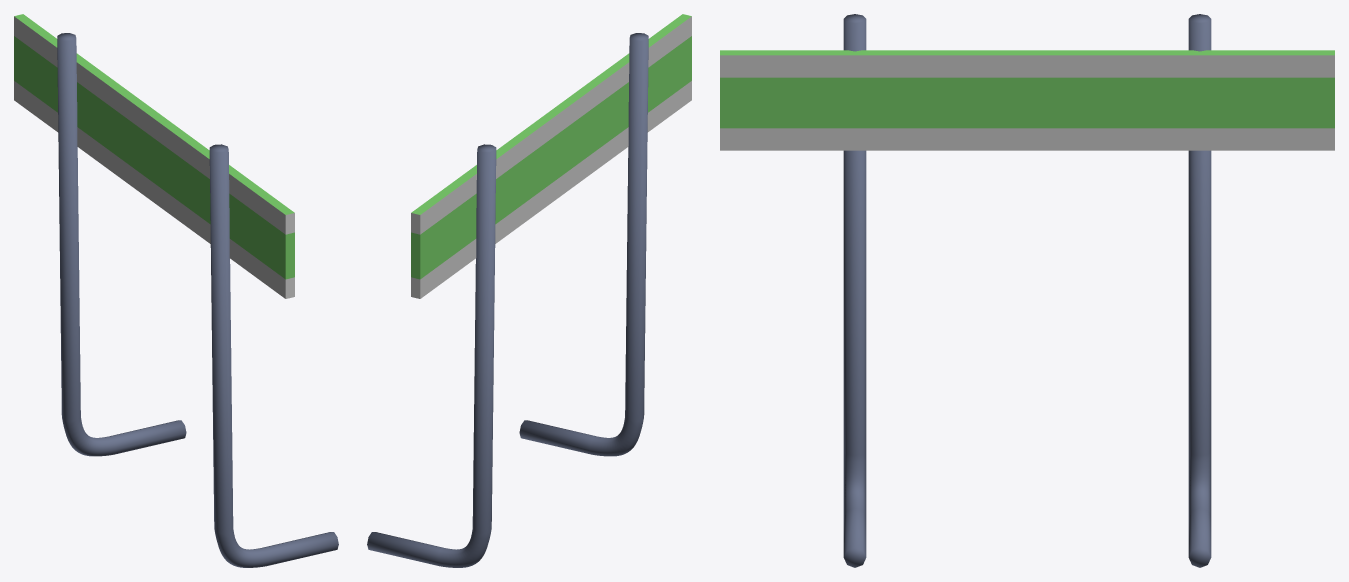
The model's file is Hurdles.fbx.
3 views of the same model, side by side, from view 1: azimuth 30°, elevation 25°; view 2: azimuth 150°, elevation 25°; view 3: azimuth 270°, elevation 25° (orthographic). The views are drawn at different scales.
Parts seen in each view (by area): view 1: NurbsPath; view 2: NurbsPath; view 3: NurbsPath.
Part boxes in pixels (x1,y1,x2,y2): NurbsPath: (14,14,338,567); NurbsPath: (367,14,691,567); NurbsPath: (720,14,1334,567).
Bounding box in the file's own units: 215 × 715 × 820.
